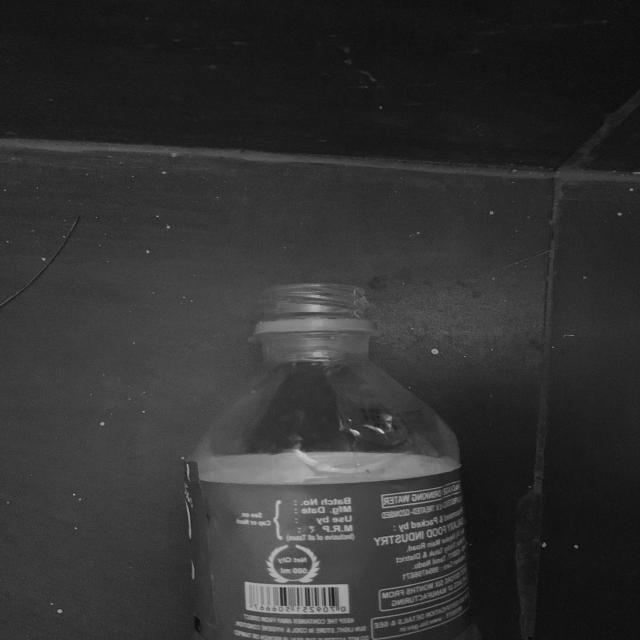open-cap: (242, 276, 378, 339)
